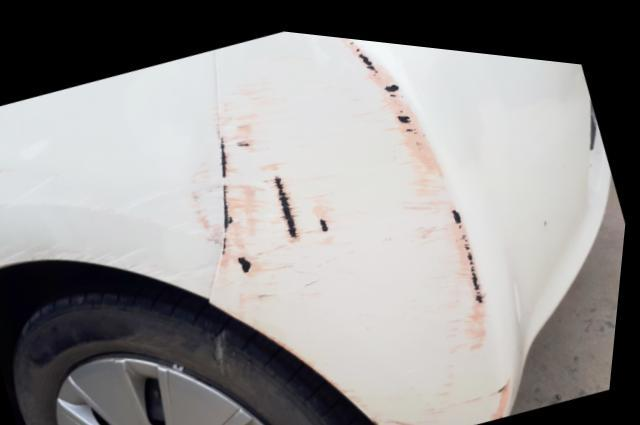scratch: (216, 25, 519, 425), (0, 150, 229, 296)
